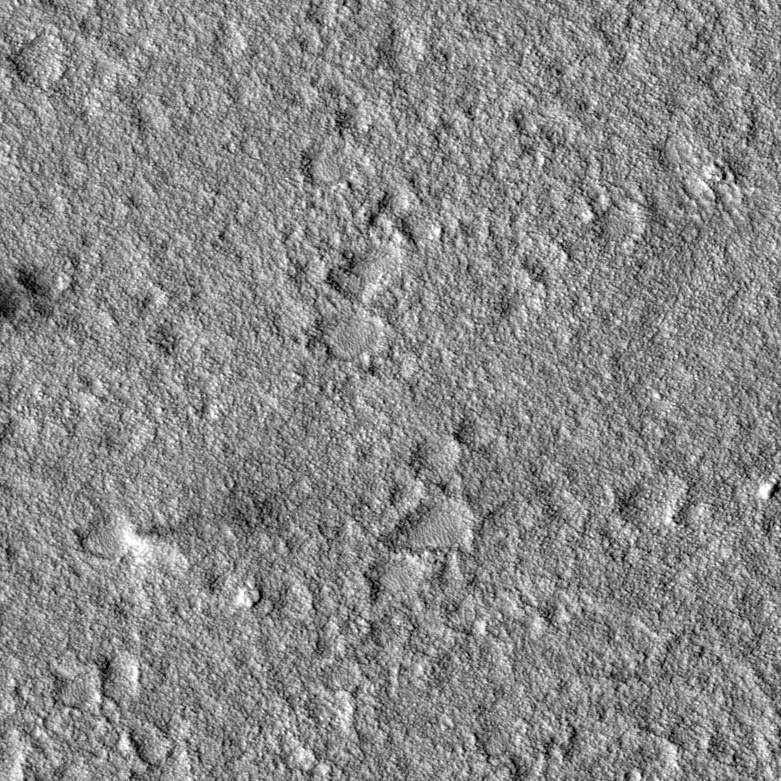dust_devil: (119, 490, 283, 562)
